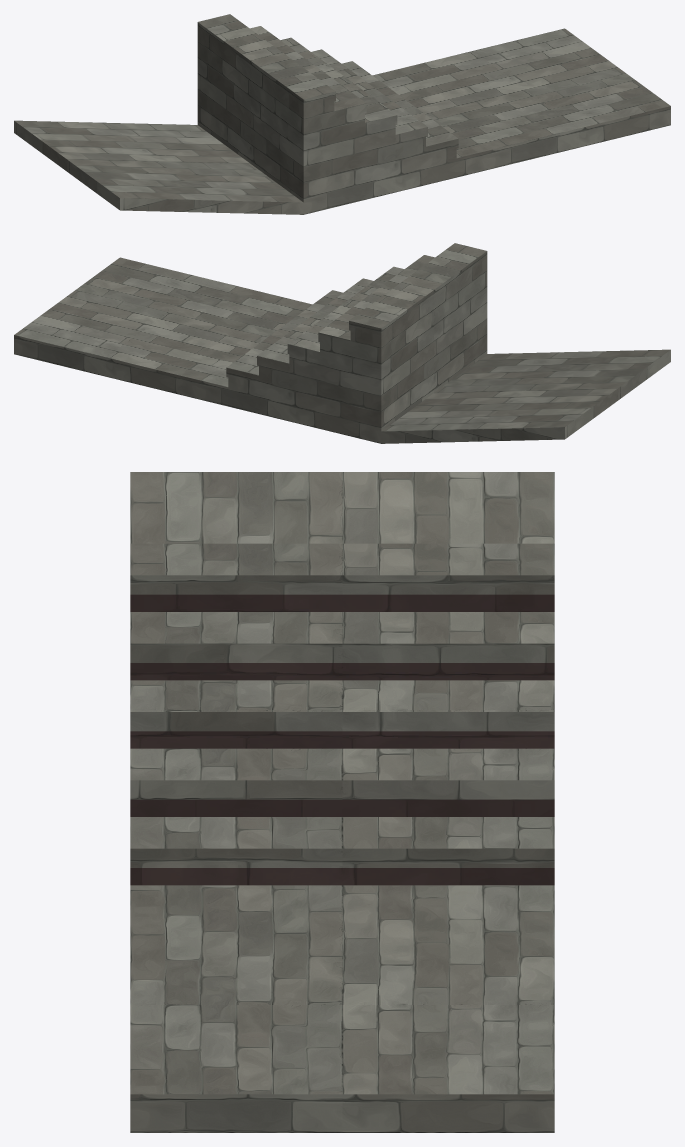
Rendered from floor.glb.
The picture shows the model from 3 angles, top to bottom: view 1: azimuth 30°, elevation 25°; view 2: azimuth 150°, elevation 25°; view 3: azimuth 270°, elevation 25°; orthographic projection. The views are drawn at different scales.
Visible parts, largest first — view 1: stonestairs, stonefloor, stoneslope; view 2: stonestairs, stonefloor, stoneslope; view 3: stonestairs, stonefloor, stoneslope.
Boxes of the visible parts, x1,y1,x2,y2 form: stonestairs: (197, 14, 489, 214); stonefloor: (383, 28, 670, 169); stoneslope: (14, 120, 303, 214); stonestairs: (195, 243, 487, 443); stonefloor: (14, 257, 301, 398); stoneslope: (381, 349, 670, 443); stonestairs: (130, 543, 554, 916); stonefloor: (130, 917, 554, 1132); stoneslope: (130, 472, 554, 543).
Size of the model in its own units: 3 by 0.6 by 1.
6 materials, 6 textured.
